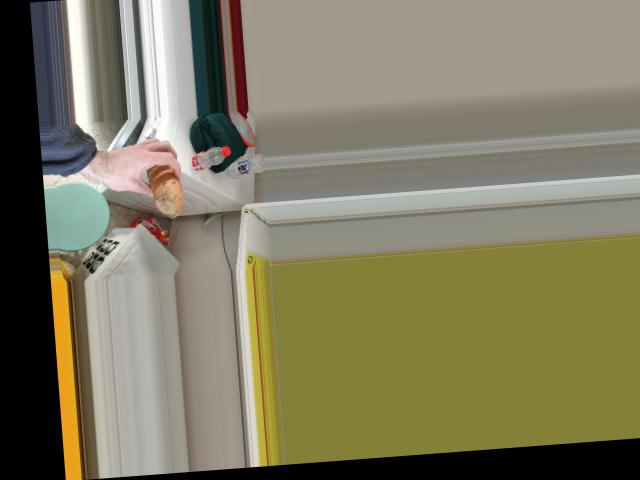sweet_potato: (138, 158, 186, 206)
